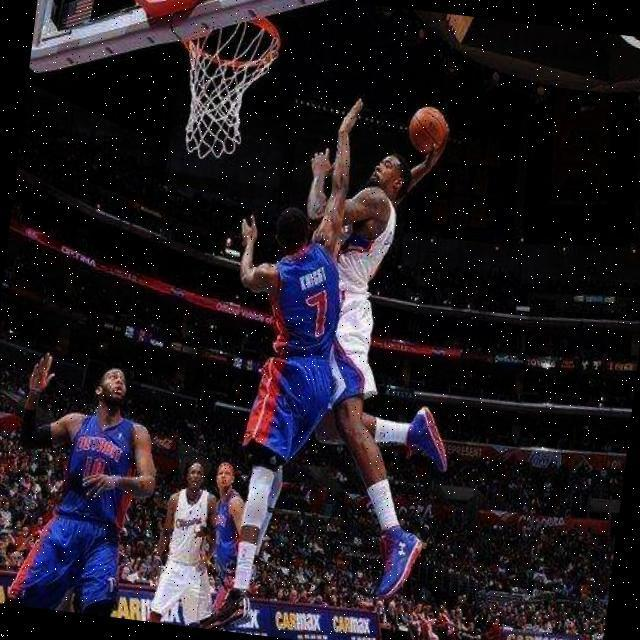ball: (406, 102, 450, 156)
